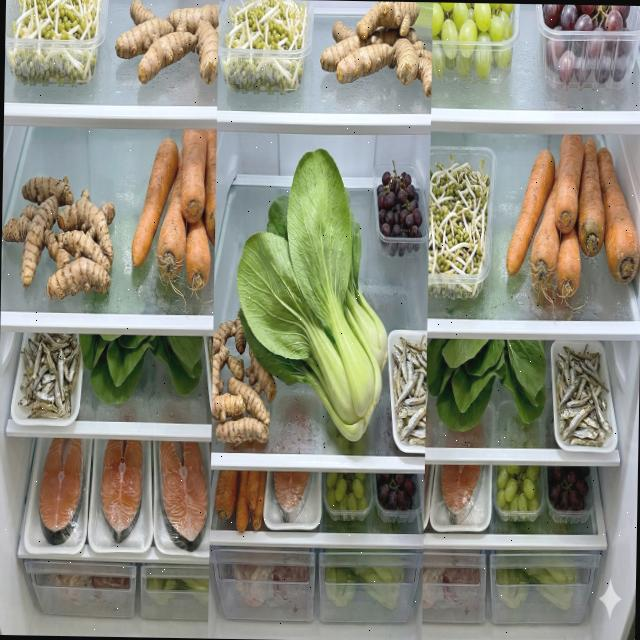anchovies: (554, 341, 614, 447), (17, 332, 81, 420), (390, 332, 427, 446)
carrot: (505, 131, 640, 301), (130, 128, 217, 292), (214, 470, 267, 532)
fish: (156, 440, 210, 552), (37, 438, 85, 544), (98, 439, 144, 545), (440, 465, 484, 526), (272, 470, 312, 524)
grape: (541, 3, 634, 86), (432, 2, 514, 81), (374, 159, 424, 257), (497, 464, 540, 522), (326, 472, 368, 522), (377, 473, 417, 511)
pakchoy: (233, 147, 391, 444)
turmeric: (0, 174, 116, 302), (319, 0, 432, 96), (114, 0, 219, 85), (212, 311, 278, 446)
